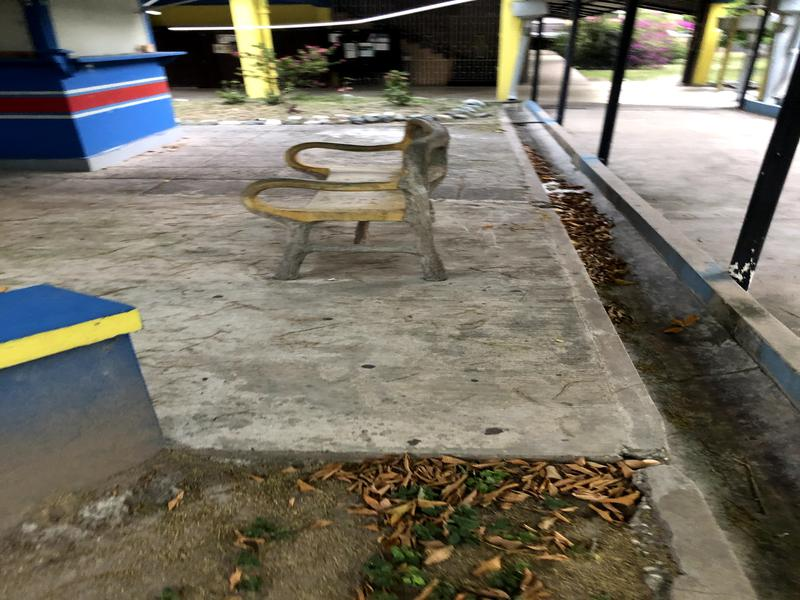18.0050864_-76.7496363_bench: (210, 108, 499, 295)
